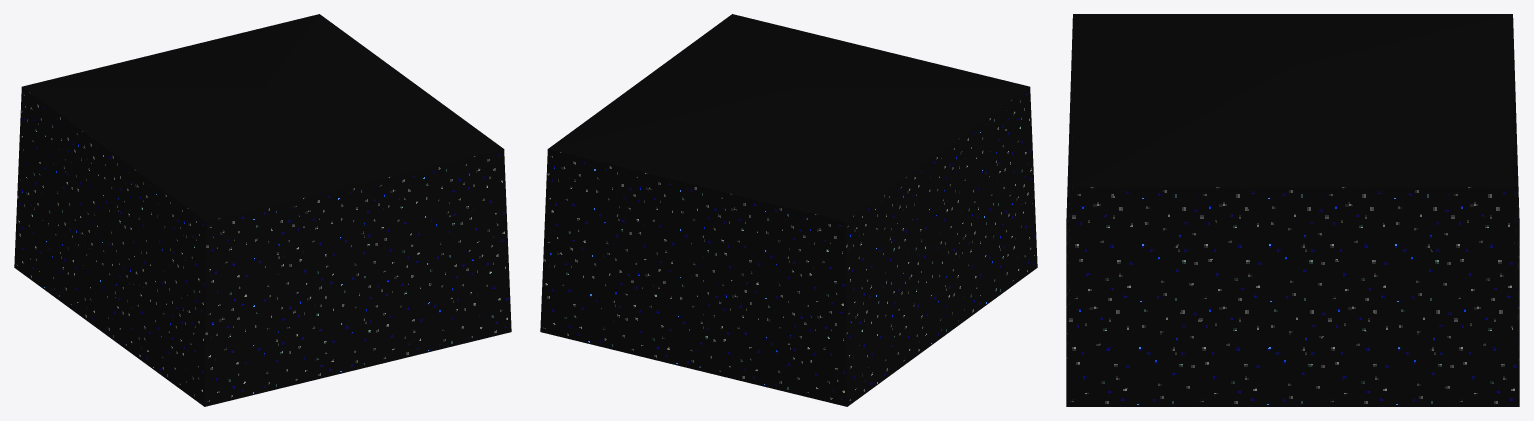
The model's file is stadium_course_V.glb.
3 renders of one model, left to right at view 1: azimuth 30°, elevation 25°; view 2: azimuth 150°, elevation 25°; view 3: azimuth 270°, elevation 25°, orthographic. The views are drawn at different scales.
Parts seen in each view (by area): view 1: stadium_course_V; view 2: stadium_course_V; view 3: stadium_course_V.
Boxes of the visible parts, x1=… form: stadium_course_V: x1=14, y1=14, x2=511, y2=406; stadium_course_V: x1=540, y1=14, x2=1037, y2=406; stadium_course_V: x1=1066, y1=14, x2=1519, y2=406.
Size of the model in its own units: 944 by 619 by 1013.
1 material, 1 textured.
